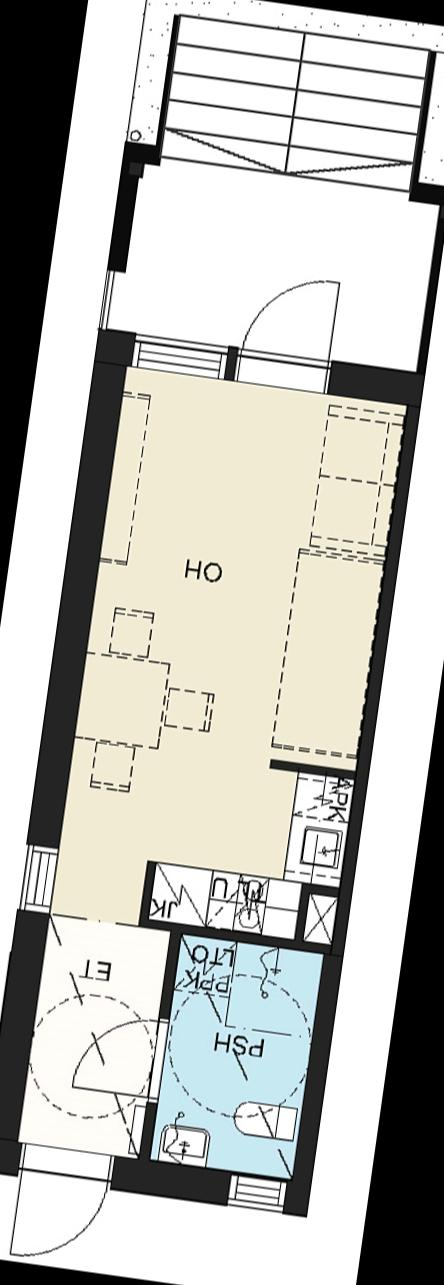door: (2, 1131, 122, 1267), (233, 262, 349, 388), (68, 1002, 178, 1103)
window: (122, 327, 235, 382), (8, 837, 66, 925), (220, 1164, 300, 1222)
